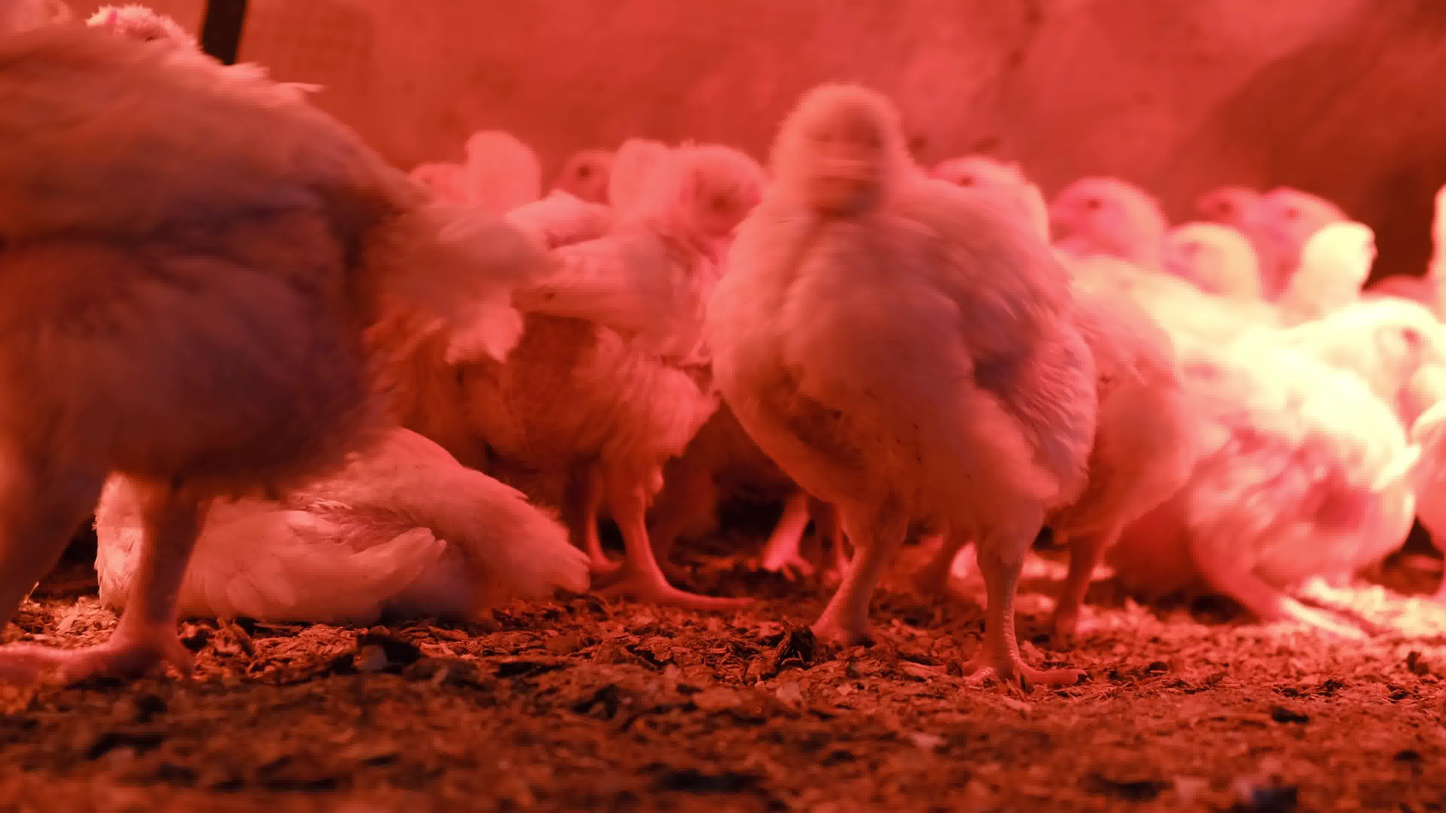AbNormal: (98, 316, 593, 662)
Normal: (0, 0, 416, 685), (723, 41, 1107, 698), (512, 141, 785, 649), (1175, 294, 1446, 647), (1248, 166, 1423, 382), (975, 164, 1184, 327), (1120, 201, 1288, 395), (891, 104, 1039, 318), (395, 92, 563, 280)
